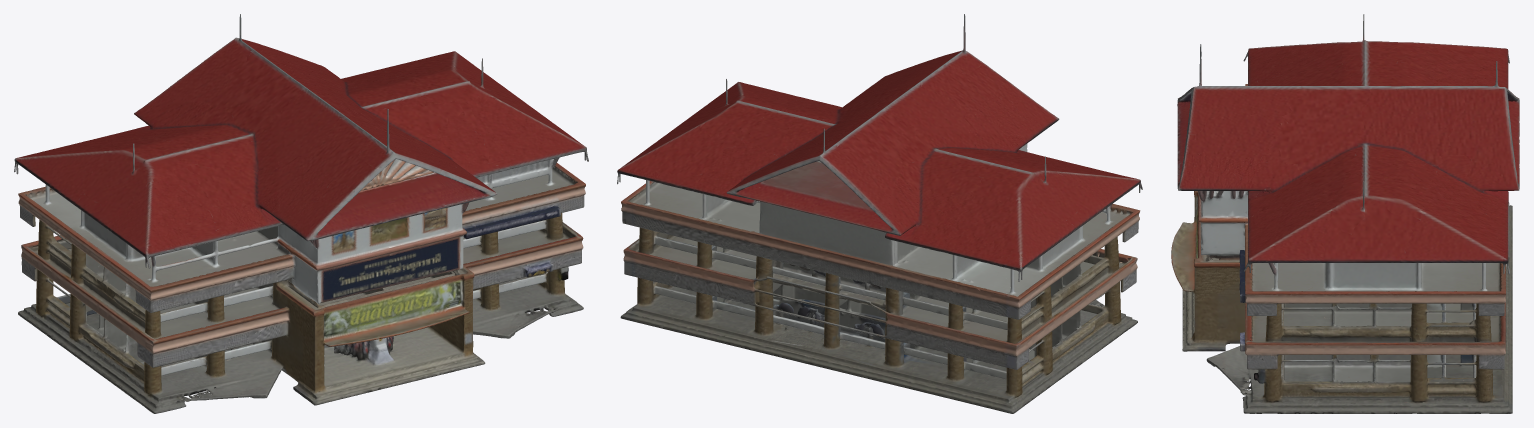
Rendered from bid_11.glb.
3 views of the same model, side by side, from view 1: azimuth 30°, elevation 25°; view 2: azimuth 150°, elevation 25°; view 3: azimuth 270°, elevation 25° (orthographic). The views are drawn at different scales.
Visible parts, largest first — view 1: mesh_node; view 2: mesh_node; view 3: mesh_node.
Part boxes in pixels (x1=…): mesh_node: x1=14, y1=14, x2=588, y2=413; mesh_node: x1=617, y1=14, x2=1142, y2=413; mesh_node: x1=1171, y1=14, x2=1519, y2=413.
Size of the model in its own units: 1.9 by 1.11 by 1.32.
Materials: 1 (1 with a texture image).
